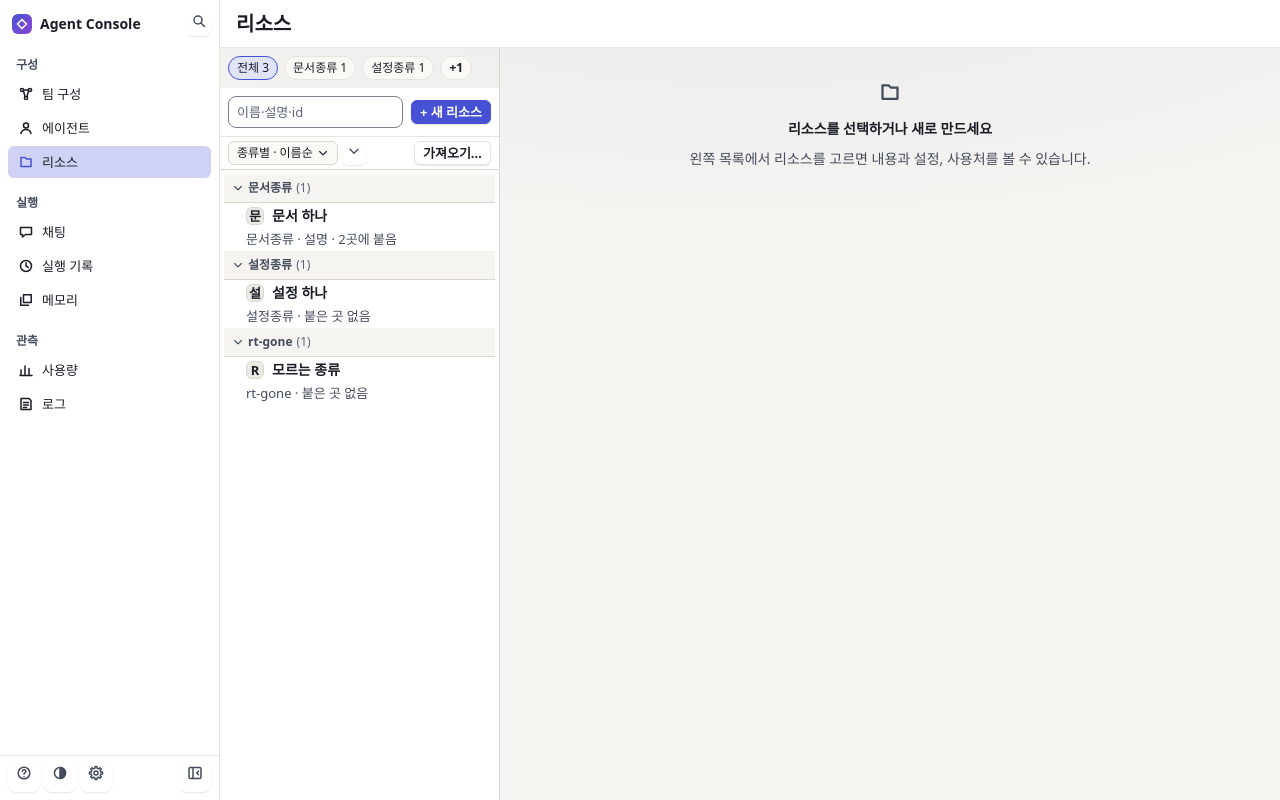
리소스 목록 › 종류 칩은 디스크립터에서 만들고 개수를 보이며 필터가 동작한다(모르는 종류 id도 칩으로)
The width and height of the screenshot is (1280, 800).
Expected: the button "문서종류 1" is shown, [284,56,356,80]
Click the button "설정종류 1".
click(398, 68)  # box [362,56,434,80]
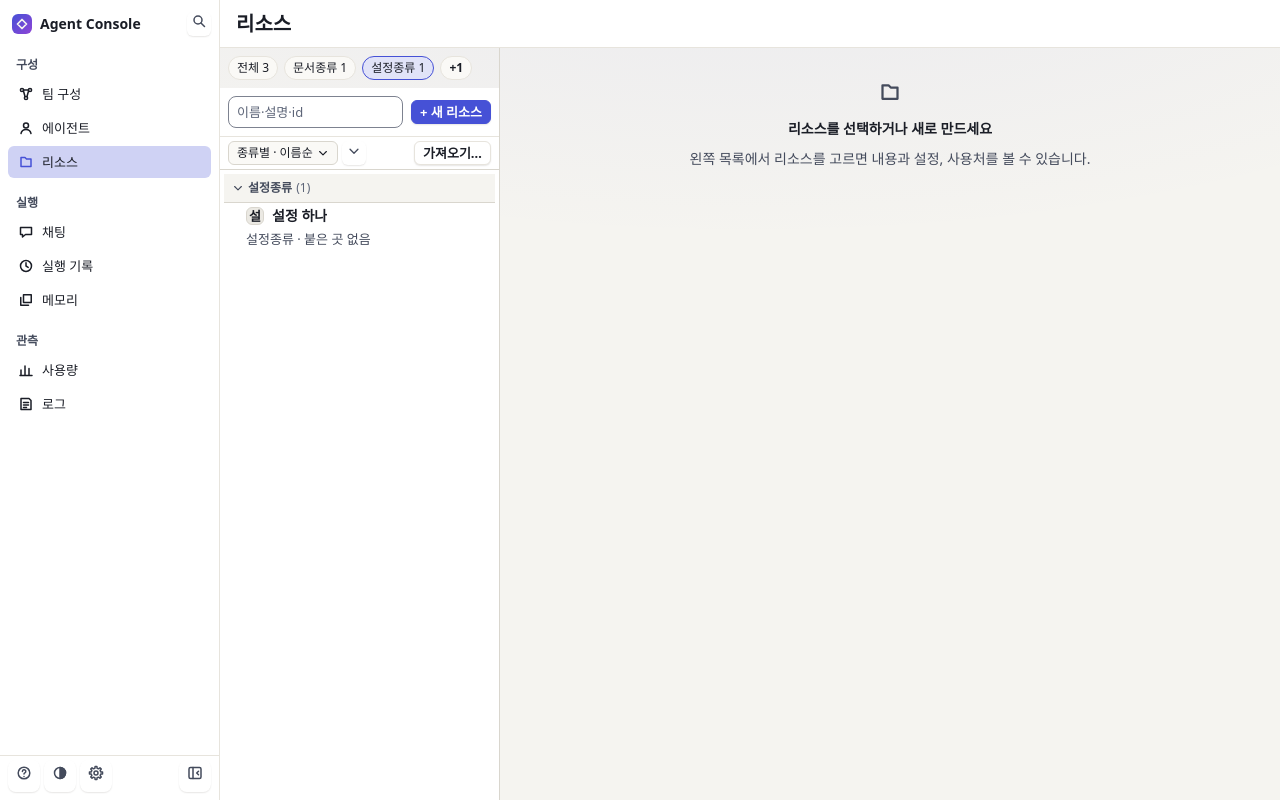
Result: the number of options is 1 at [246,206,371,248]
